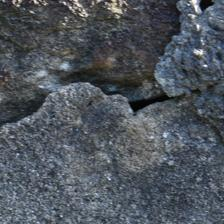Crack: (2, 39, 183, 101)
